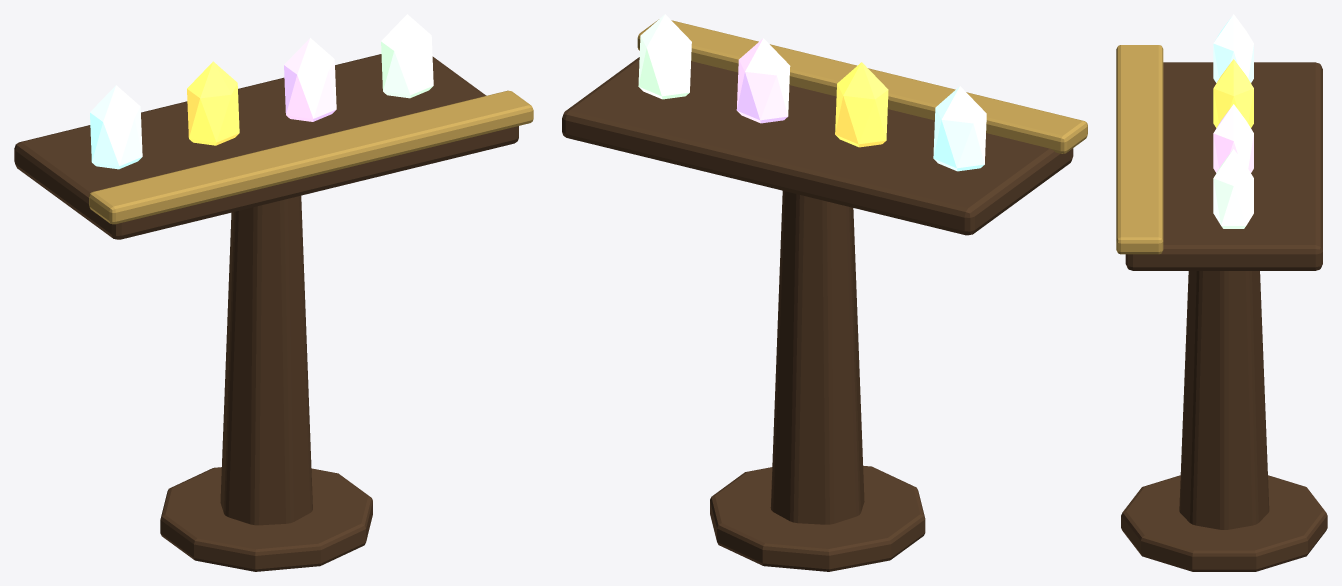
File: rune_rack.glb
3 renders of one model, left to right at view 1: azimuth 30°, elevation 25°; view 2: azimuth 150°, elevation 25°; view 3: azimuth 270°, elevation 25°, orthographic. The views are drawn at different scales.
Parts seen in each view (by area): view 1: Cube, Cone, Cube.001, Cone.001, Icosphere.001, Icosphere.002, Icosphere, Icosphere.003; view 2: Cube, Cone, Cone.001, Cube.001, Icosphere.002, Icosphere, Icosphere.001, Icosphere.003; view 3: Cube, Cone, Cone.001, Cube.001, Icosphere.003, Icosphere.002, Icosphere.001, Icosphere.
Part boxes in pixels (<box>): Cube: <box>14,54,518,239</box>; Cone: <box>220,195,312,525</box>; Cube.001: <box>89,90,533,224</box>; Cone.001: <box>160,467,372,571</box>; Icosphere.001: <box>187,61,239,145</box>; Icosphere.002: <box>284,38,336,121</box>; Icosphere: <box>90,85,142,169</box>; Icosphere.003: <box>381,14,433,98</box>; Cube: <box>562,57,1073,235</box>; Cone: <box>770,191,864,524</box>; Cone.001: <box>710,465,925,571</box>; Cube.001: <box>637,19,1087,153</box>; Icosphere.002: <box>736,38,790,123</box>; Icosphere: <box>933,86,986,171</box>; Icosphere.001: <box>835,62,888,147</box>; Icosphere.003: <box>638,14,691,99</box>; Cube: <box>1125,62,1322,270</box>; Cone: <box>1179,271,1269,529</box>; Cone.001: <box>1121,475,1327,571</box>; Cube.001: <box>1116,45,1163,254</box>; Icosphere.003: <box>1213,149,1253,228</box>; Icosphere.002: <box>1213,104,1253,172</box>; Icosphere.001: <box>1213,59,1253,127</box>; Icosphere: <box>1213,14,1253,82</box>.
Size of the model in its own units: 0.99 by 1.06 by 0.45.
